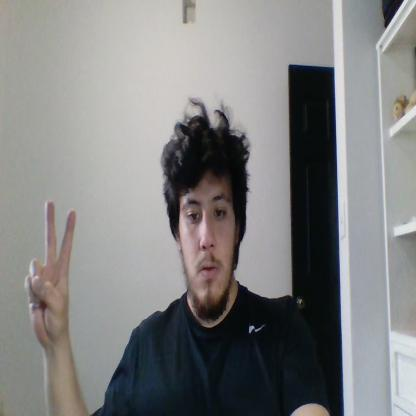V: (25, 200, 76, 348)
